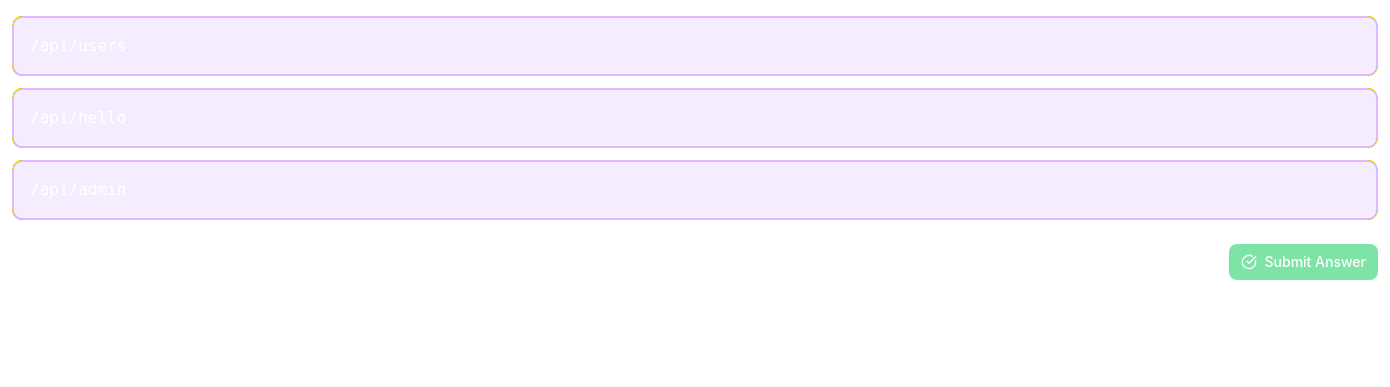
it: PickEndpoint › feedback › shows success feedback after correct answer
Step 1. Click the button "/api/hello" → [78, 118], box [12,88,1378,148]
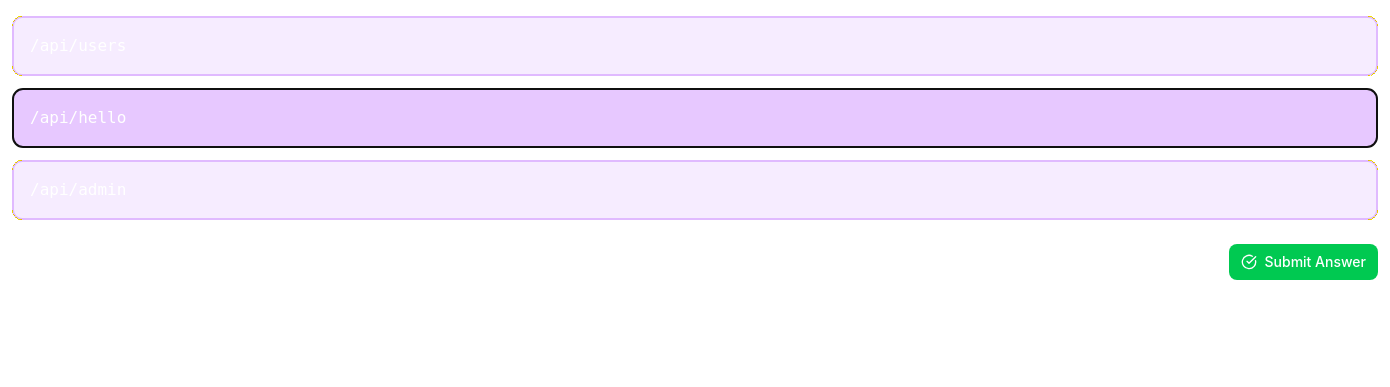
Step 2. Click the button "Submit Answer" → [1303, 262], box [1228,244,1378,280]
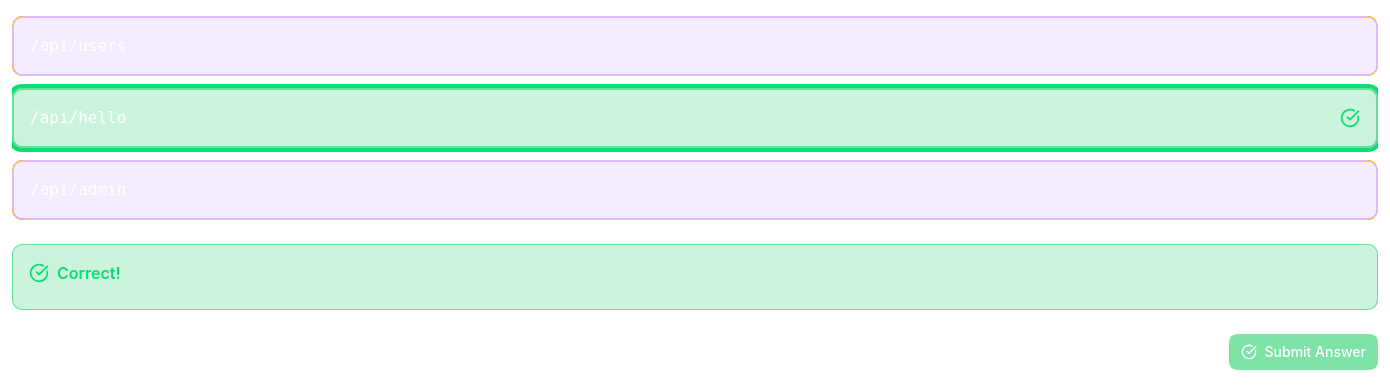
Result: the text "Correct!" is shown at [57,261,121,285]
